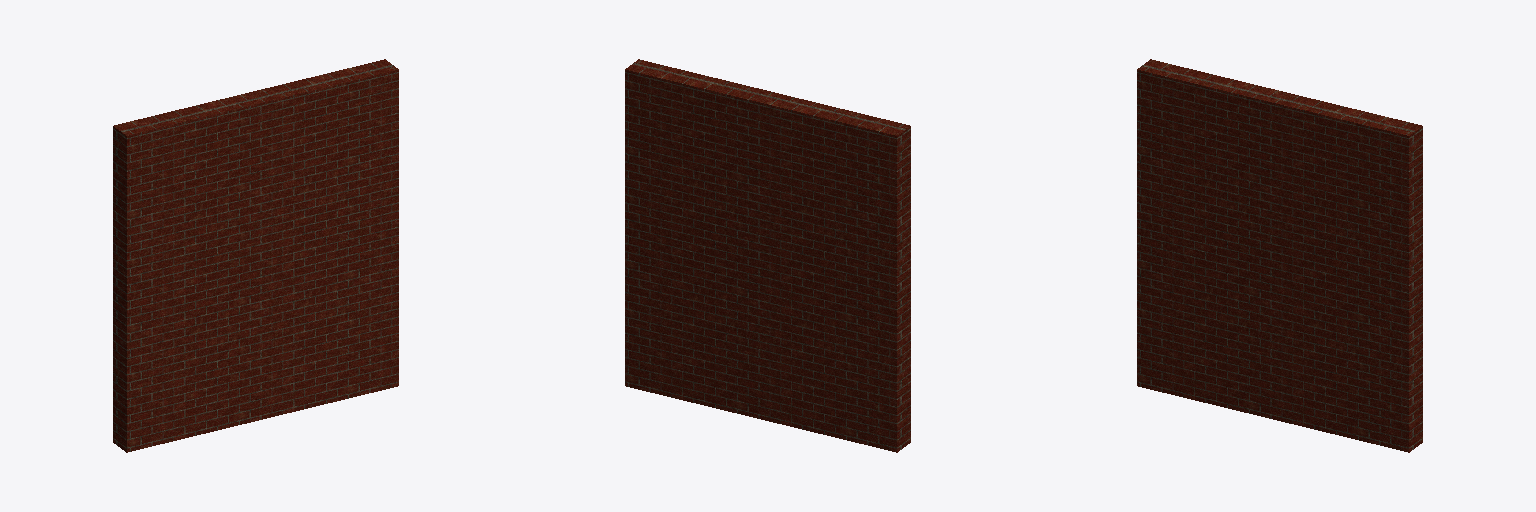
The picture shows the model from 3 angles: view 1: azimuth 30°, elevation 25°; view 2: azimuth 150°, elevation 25°; view 3: azimuth 330°, elevation 25°; orthographic projection.
Parts seen in each view (by area): view 1: ___; view 2: ___; view 3: ___.
Boxes of the visible parts, <box> form: ___: <box>113,59,398,452</box>; ___: <box>625,59,910,452</box>; ___: <box>1137,59,1422,452</box>.
Size of the model in its own units: 500 by 555 by 44.58.
Materials: 1 (1 with a texture image).